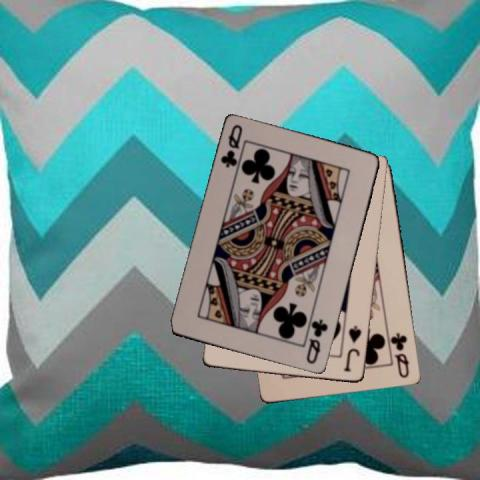Js: (341, 323, 363, 373)
Qc: (304, 317, 330, 366), (218, 122, 244, 170), (389, 330, 411, 379)
